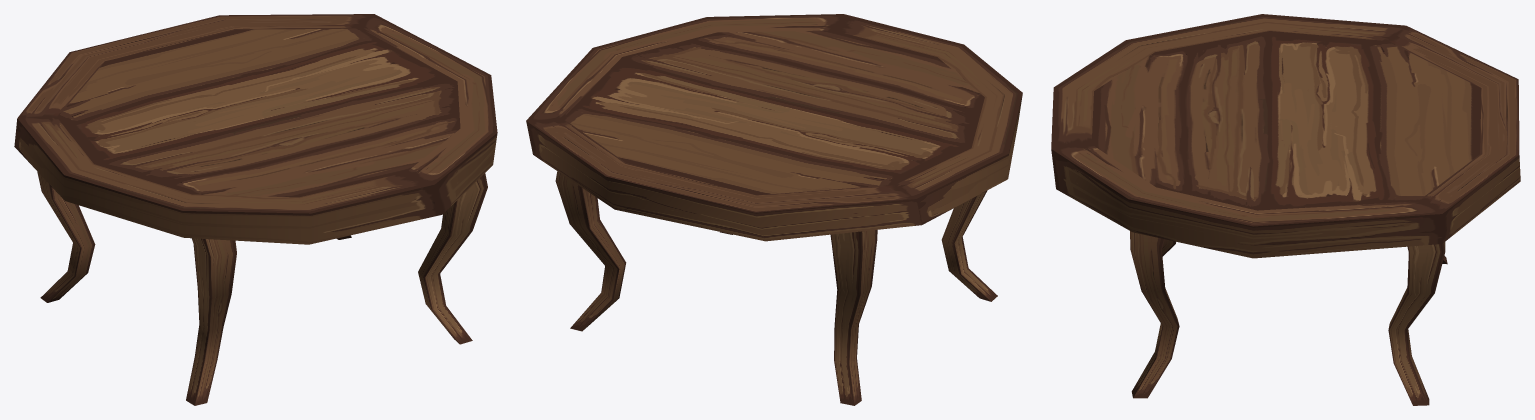
The model's file is SM_PROP_table_interior_07.fbx.
The picture shows the model from 3 angles, left to right: view 1: azimuth 30°, elevation 25°; view 2: azimuth 150°, elevation 25°; view 3: azimuth 270°, elevation 25°; orthographic projection. The views are drawn at different scales.
Visible parts, largest first — view 1: SM_PROP_table_interior_07; view 2: SM_PROP_table_interior_07; view 3: SM_PROP_table_interior_07.
Boxes of the visible parts, x1=… form: SM_PROP_table_interior_07: x1=14, y1=14, x2=497, y2=405; SM_PROP_table_interior_07: x1=526, y1=14, x2=1022, y2=405; SM_PROP_table_interior_07: x1=1051, y1=14, x2=1520, y2=405.
Bounding box in the file's own units: 187 × 86.19 × 174.
